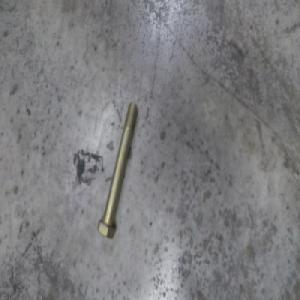Bolt: (97, 106, 138, 242)
